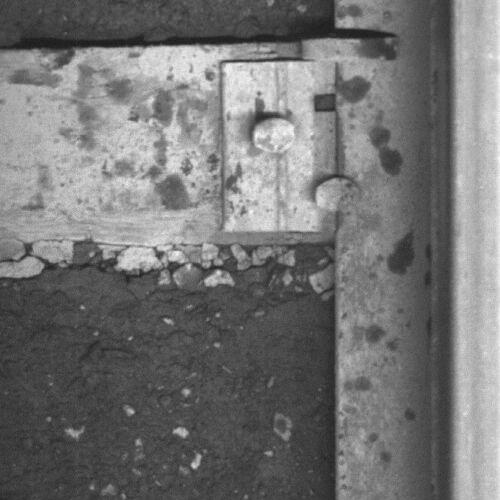crutch: (301, 33, 398, 61)
do: (221, 59, 361, 233)
hole_do: (307, 85, 345, 122)
rail: (449, 1, 500, 500)
tie_wood: (1, 46, 335, 241)
